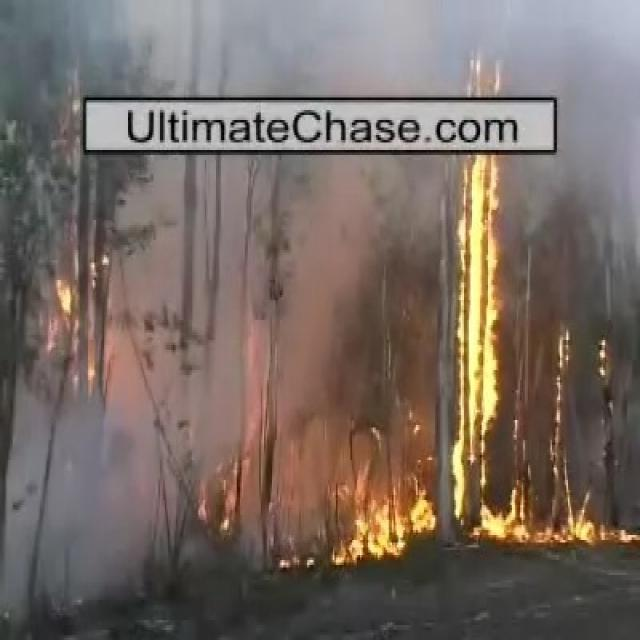fire: (454, 157, 497, 518), (334, 507, 436, 565)
smoke: (18, 409, 94, 606), (509, 2, 632, 92)
